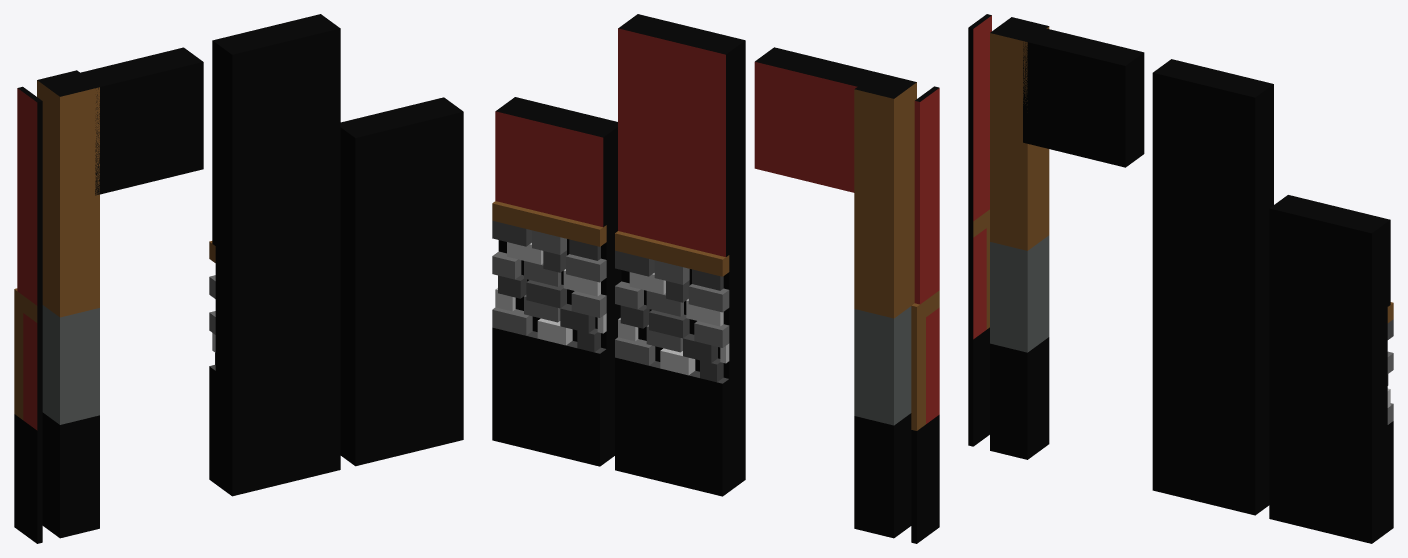
Rendered from Walls.fbx.
The picture shows the model from 3 angles, left to right: view 1: azimuth 30°, elevation 25°; view 2: azimuth 150°, elevation 25°; view 3: azimuth 330°, elevation 25°; orthographic projection. The views are drawn at different scales.
Visible parts, largest first — view 1: Cube, Cube.004, Cube.001, Cube.002, Cube.003; view 2: Cube, Cube.004, Cube.001, Cube.002, Cube.003; view 3: Cube, Cube.004, Cube.001, Cube.002, Cube.003.
Boxes of the visible parts, x1,y1,x2,y2 form: Cube: (209,14,340,496); Cube.004: (340,97,463,466); Cube.001: (37,70,99,538); Cube.002: (76,47,203,195); Cube.003: (14,86,42,543); Cube: (615,14,745,496); Cube.004: (492,97,621,466); Cube.001: (854,72,916,538); Cube.002: (754,47,881,192); Cube.003: (911,86,939,543); Cube: (1152,59,1273,515); Cube.004: (1269,195,1393,543); Cube.001: (990,17,1049,459); Cube.002: (1023,27,1144,167); Cube.003: (968,14,991,446).
Size of the model in its own units: 788 by 779 by 73.68.
